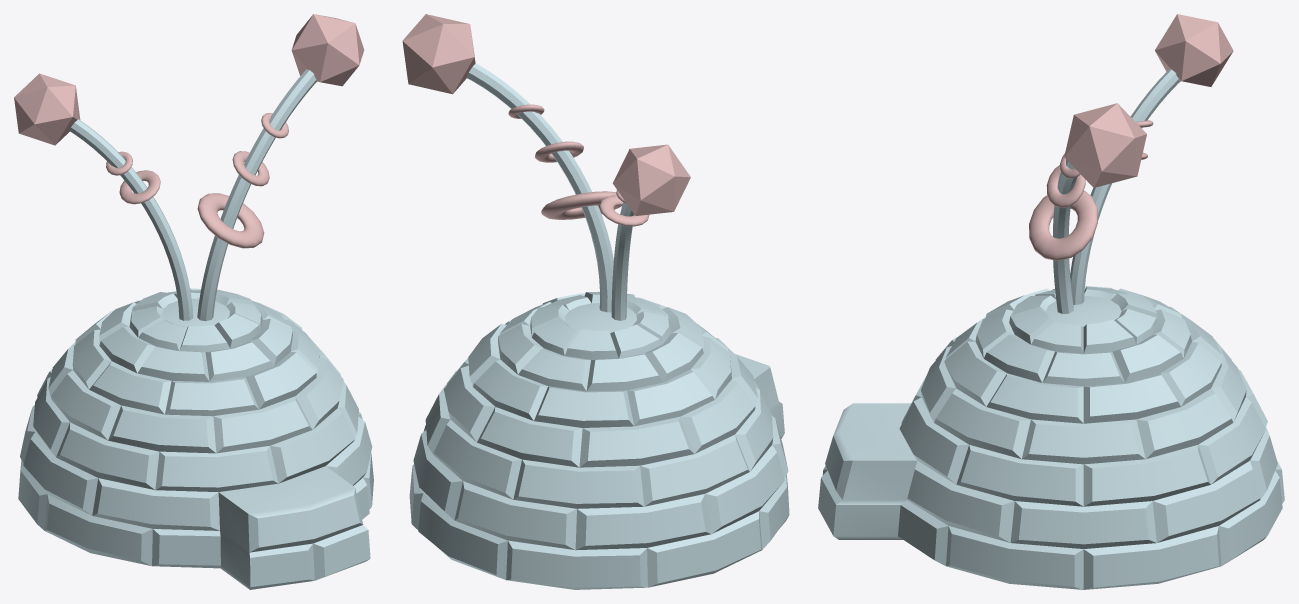
The model's file is house3.fbx.
3 renders of one model, left to right at view 1: azimuth 30°, elevation 25°; view 2: azimuth 150°, elevation 25°; view 3: azimuth 270°, elevation 25°, orthographic. The views are drawn at different scales.
Visible parts, largest first — view 1: house3; view 2: house3; view 3: house3.
Boxes of the visible parts, x1,y1,x2,y2 form: house3: [14, 14, 373, 589]; house3: [402, 14, 789, 589]; house3: [818, 14, 1284, 589].
Bounding box in the file's own units: 2.49 × 3.14 × 2.78.
